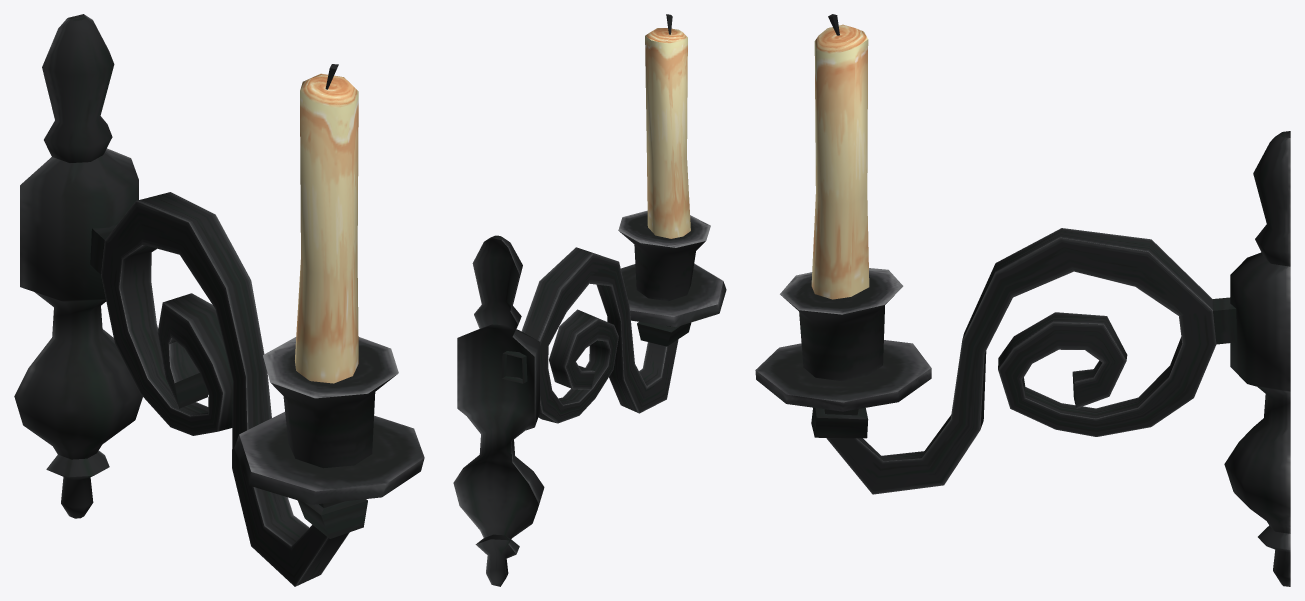
Rendered from SM_PROP_candle_city_02.fbx.
3 views of the same model, side by side, from view 1: azimuth 30°, elevation 25°; view 2: azimuth 150°, elevation 25°; view 3: azimuth 270°, elevation 25° (orthographic). The views are drawn at different scales.
Parts seen in each view (by area): view 1: SM_PROP_candle_city_02; view 2: SM_PROP_candle_city_02; view 3: SM_PROP_candle_city_02.
Part boxes in pixels (bbox=[...]): SM_PROP_candle_city_02: bbox=[14, 14, 424, 586]; SM_PROP_candle_city_02: bbox=[453, 14, 726, 586]; SM_PROP_candle_city_02: bbox=[755, 14, 1290, 586].
Size of the model in its own units: 10.83 by 39.91 by 33.87.
